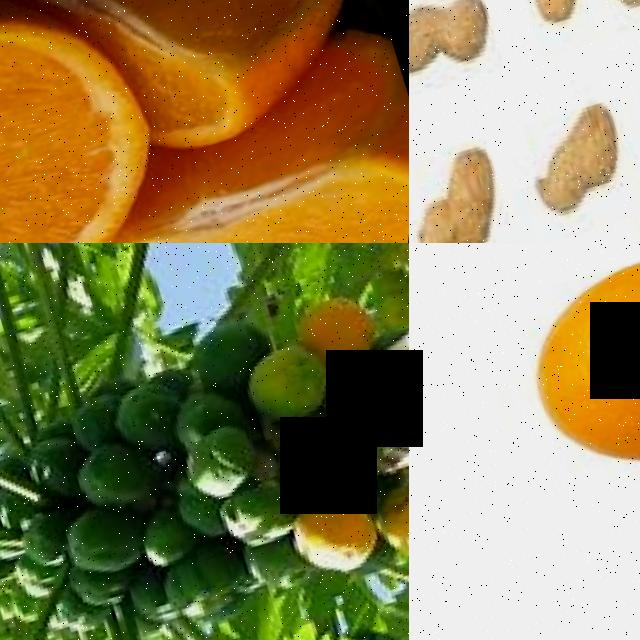orange: (43, 50, 409, 243), (8, 0, 409, 160), (0, 0, 169, 243), (493, 243, 640, 495)
pawpaw: (280, 471, 399, 588), (238, 323, 344, 429), (70, 420, 179, 522), (174, 402, 280, 503), (291, 275, 391, 378), (56, 489, 159, 586), (367, 451, 409, 560)
peanuts: (507, 74, 640, 224), (409, 123, 543, 243), (409, 0, 514, 98)
